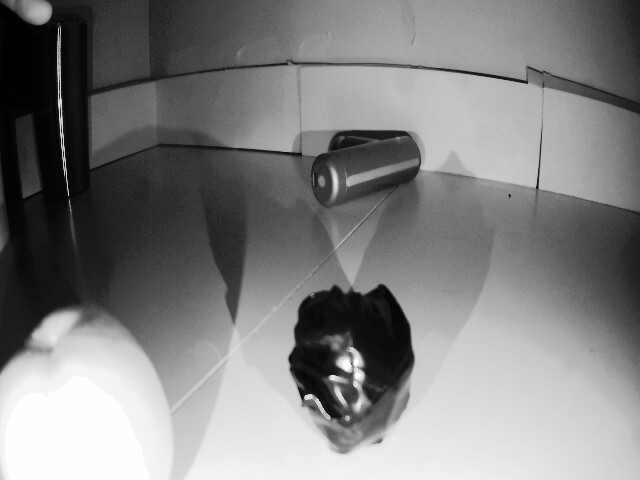silver: (295, 274, 426, 459)
